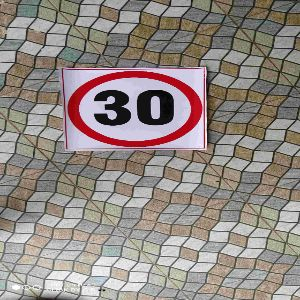speedlimit30: (63, 68, 208, 148)
